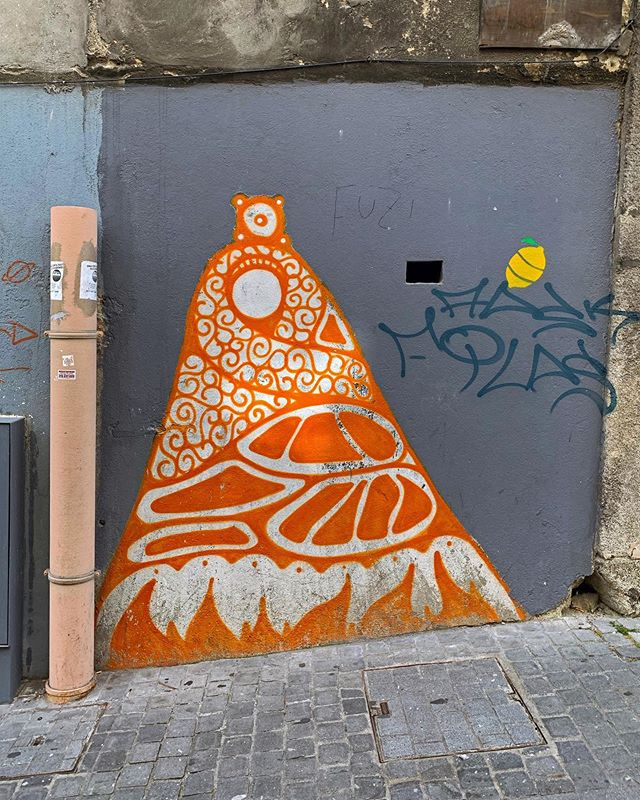graffiti: (139, 207, 538, 652), (401, 252, 637, 435)
